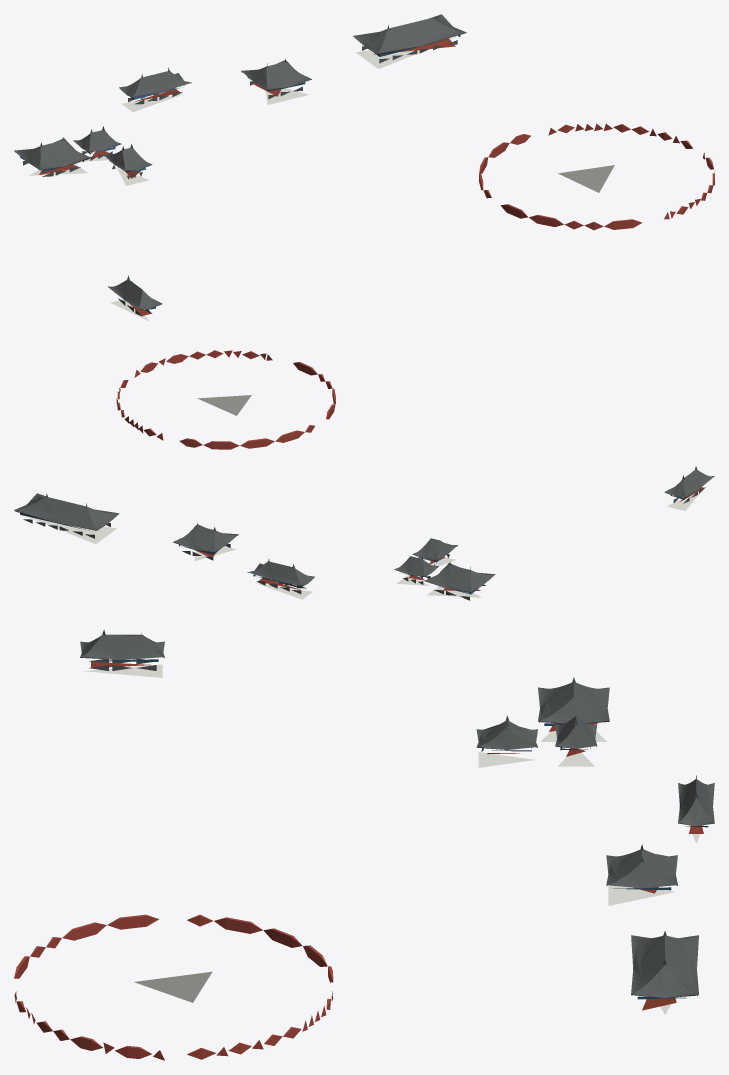
File: ritan-far-46e8967f03.glb
3 views of the same model, one above another, from view 1: azimuth 30°, elevation 25°; view 2: azimuth 150°, elevation 25°; view 3: azimuth 270°, elevation 25° (orthographic). The views are drawn at different scales.
Visible parts, largest first — view 1: ritan coarse.001; view 2: ritan coarse.001; view 3: ritan coarse.001.
Boxes of the visible parts, x1=… form: ritan coarse.001: x1=14, y1=14, x2=714, y2=321; ritan coarse.001: x1=14, y1=350, x2=714, y2=600; ritan coarse.001: x1=14, y1=629, x2=714, y2=1060.
Size of the model in its own units: 217 by 11 by 162.
